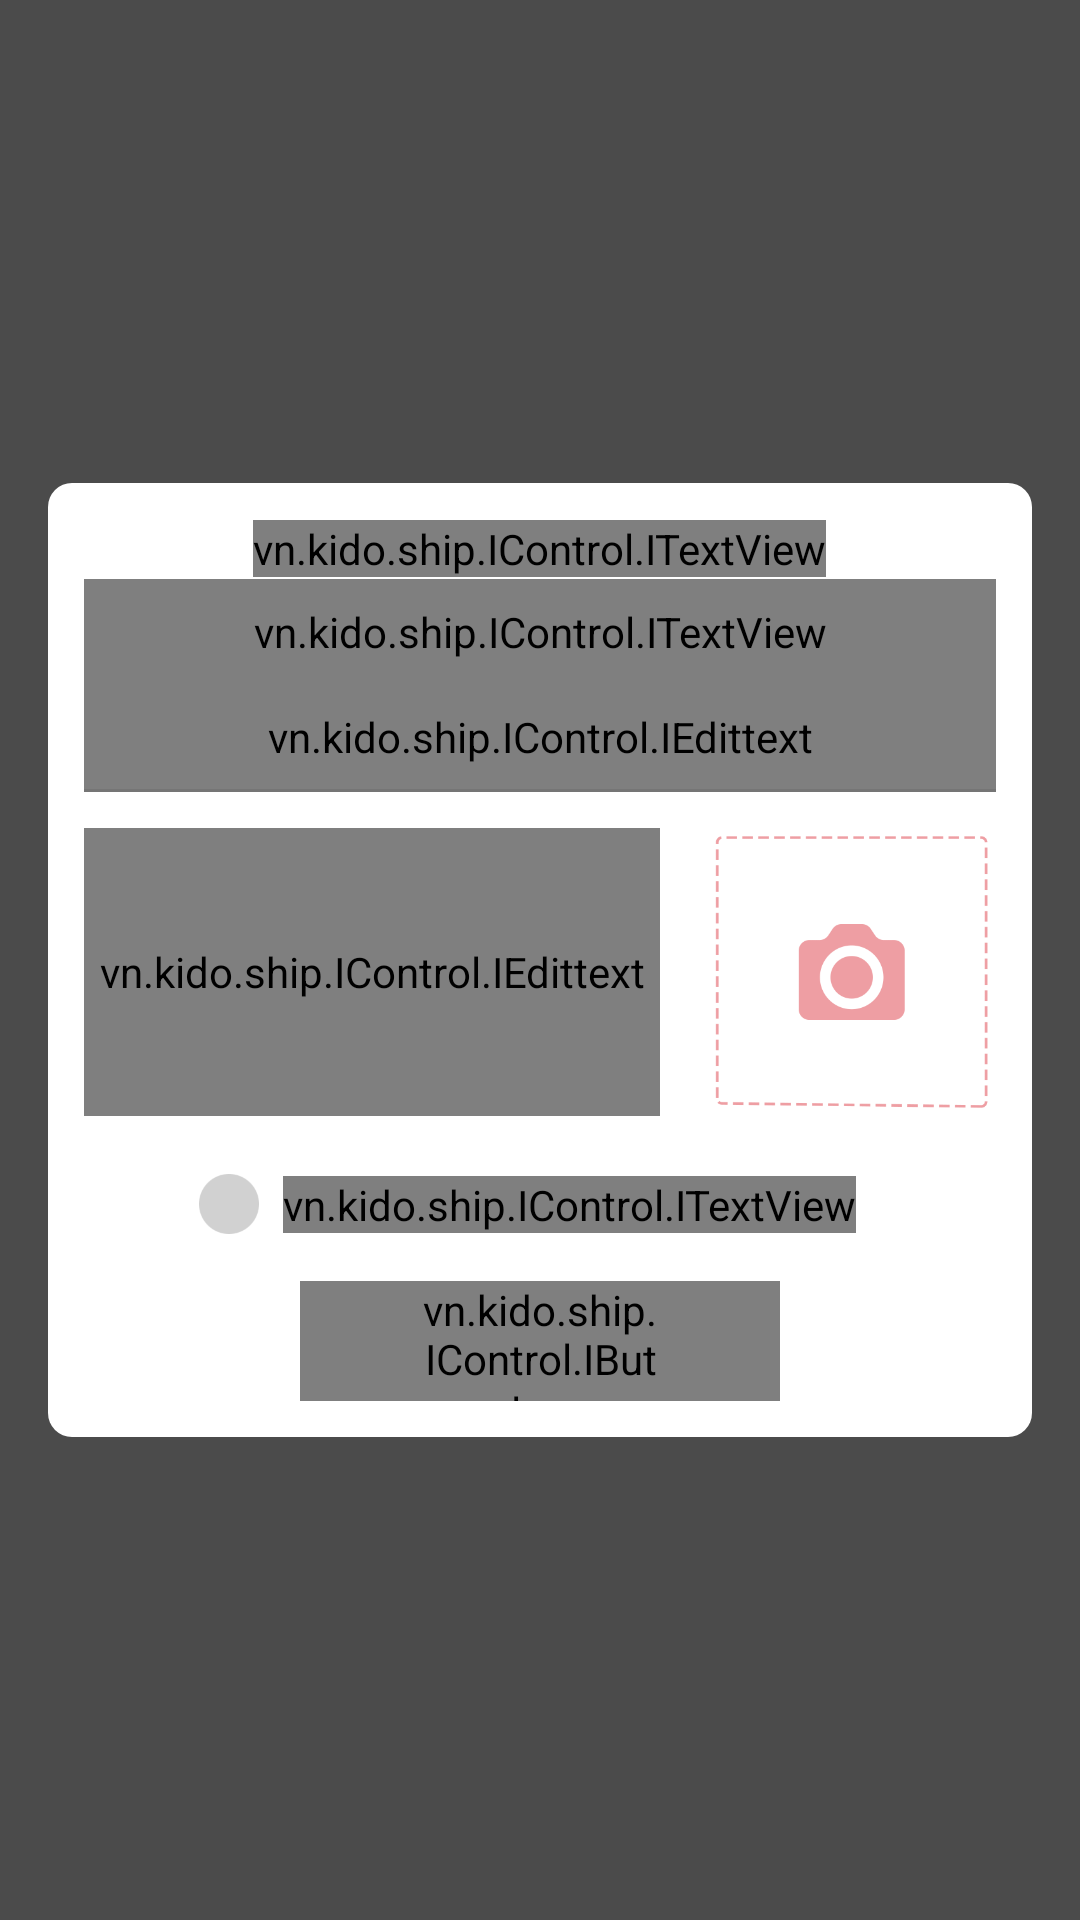

Named icons in this screenshot (1080px×1920px) and their bounding boxes, bbox(x1, y1, x2, y2):
take picture: bbox(716, 836, 988, 1108)
